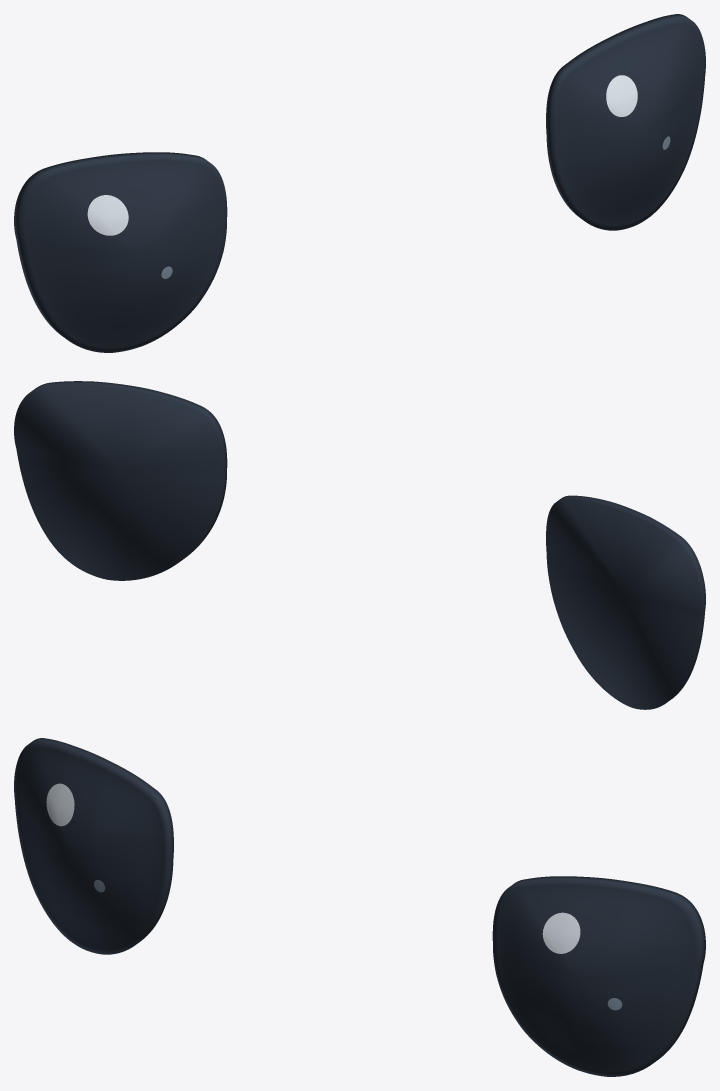
File: Feminine-eyes-hooded.glb
The picture shows the model from 3 angles, top to bottom: view 1: azimuth 30°, elevation 25°; view 2: azimuth 150°, elevation 25°; view 3: azimuth 330°, elevation 25°; orthographic projection.
Parts seen in each view (by area): view 1: 226 eyes / Eye / smoky charcoal181, 226 eyes / Eye highlight181; view 2: 226 eyes / Eye / smoky charcoal181; view 3: 226 eyes / Eye / smoky charcoal181, 226 eyes / Eye highlight181.
Part boxes in pixels (<box>): 226 eyes / Eye / smoky charcoal181: <box>14,14,705,352</box>; 226 eyes / Eye highlight181: <box>87,75,637,235</box>; 226 eyes / Eye / smoky charcoal181: <box>14,381,705,709</box>; 226 eyes / Eye / smoky charcoal181: <box>14,738,705,1076</box>; 226 eyes / Eye highlight181: <box>46,783,580,953</box>.
Bounding box in the file's own units: 0.4058 × 0.1091 × 0.0381.
